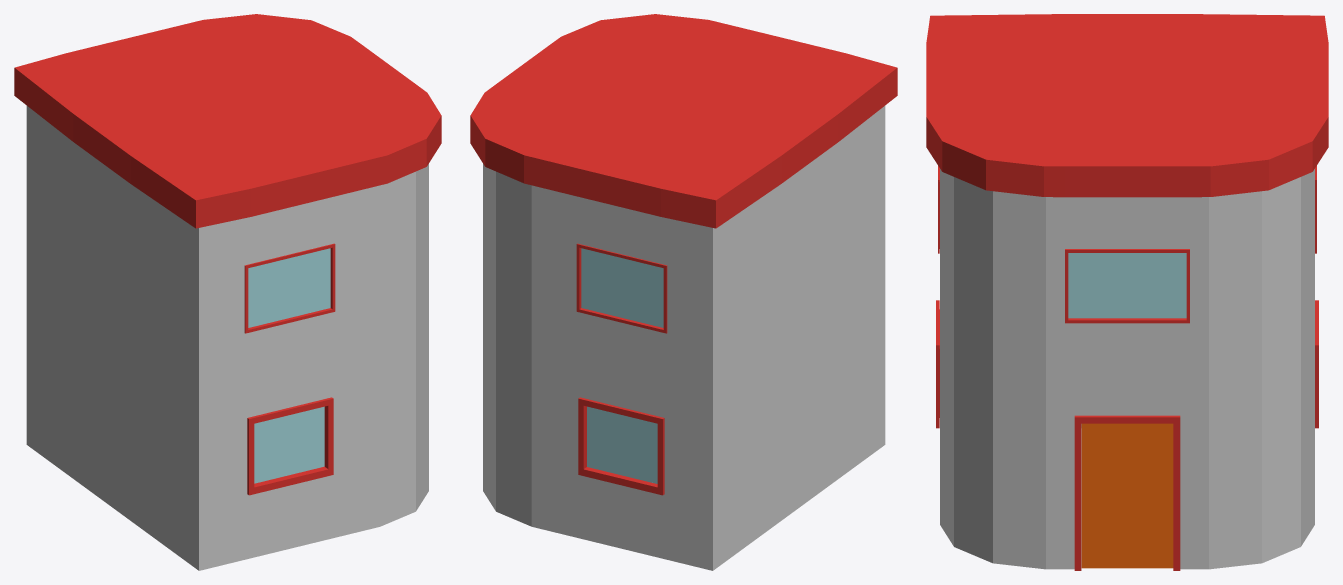
Rendered from quarter_95_b.glb.
3 views of the same model, side by side, from view 1: azimuth 30°, elevation 25°; view 2: azimuth 150°, elevation 25°; view 3: azimuth 270°, elevation 25° (orthographic). The views are drawn at different scales.
Visible parts, largest first — view 1: Building 72_White_0, Building 72_Red_0, Building 72_Blue_0; view 2: Building 72_White_0, Building 72_Red_0, Building 72_Blue_0; view 3: Building 72_White_0, Building 72_Red_0, Building 72_Orange_0, Building 72_Blue_0.
Boxes of the visible parts, x1=… form: Building 72_White_0: x1=26, y1=106, x2=428, y2=570; Building 72_Red_0: x1=14, y1=14, x2=441, y2=495; Building 72_Blue_0: x1=248, y1=248, x2=330, y2=483; Building 72_White_0: x1=483, y1=106, x2=885, y2=570; Building 72_Red_0: x1=470, y1=14, x2=897, y2=495; Building 72_Blue_0: x1=581, y1=248, x2=663, y2=483; Building 72_White_0: x1=940, y1=169, x2=1314, y2=570; Building 72_Red_0: x1=926, y1=14, x2=1328, y2=570; Building 72_Orange_0: x1=1081, y1=423, x2=1173, y2=568; Building 72_Blue_0: x1=1068, y1=253, x2=1186, y2=318.
Bounding box in the file's own units: 0.8879 × 1.11 × 0.9906.
